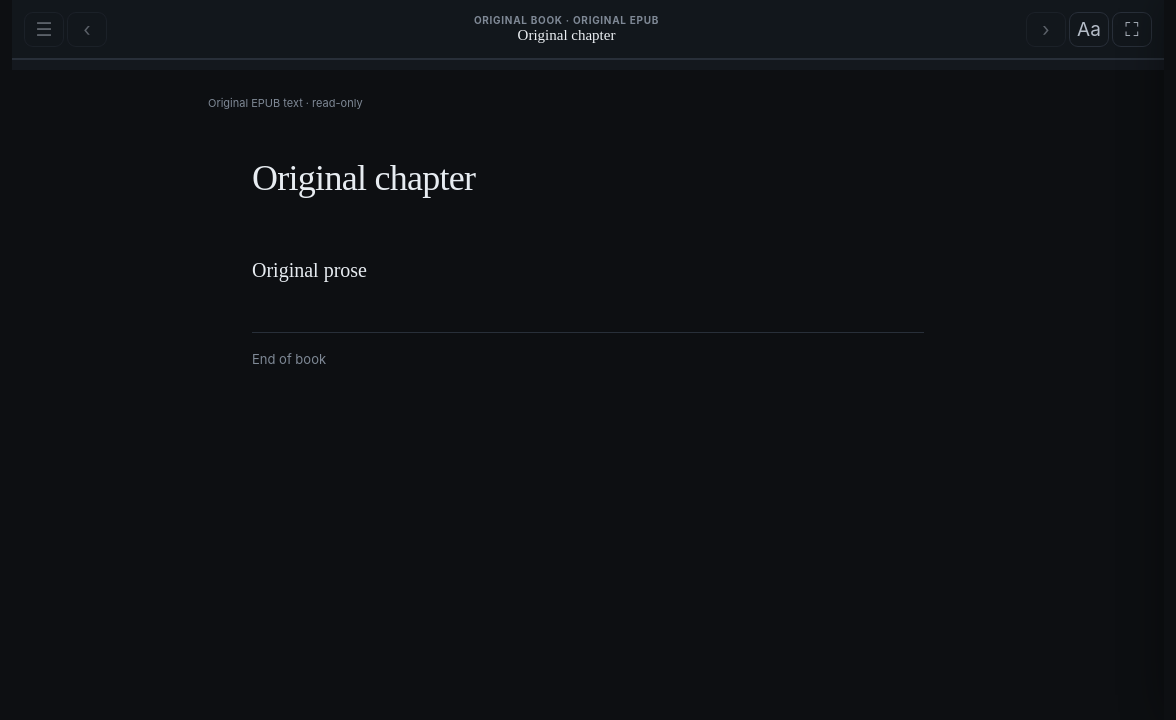
Test: reads an original EPUB without requesting workspace markers or progress
Expected: the text "Original prose" is shown, [252,259,367,281]
What coordinates should you click on to do the following:
click the button with aria-label "Reader settings"
I would click on:
 (1089, 29)
Its box is [1069,12,1109,46].
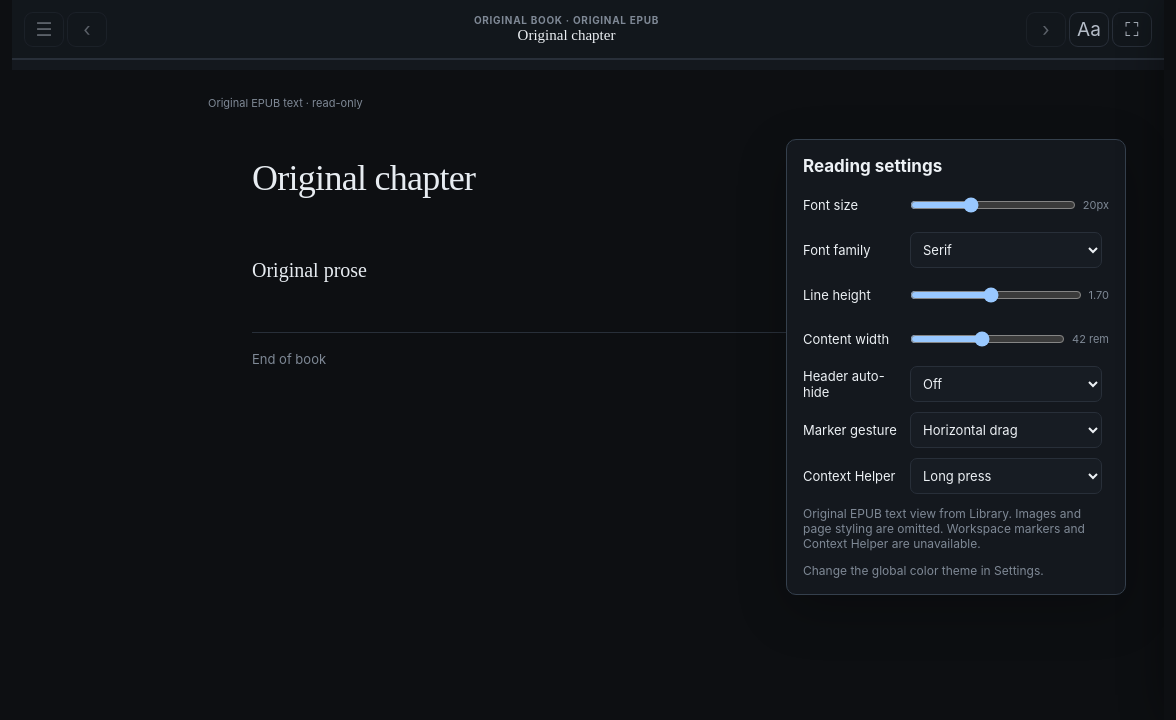
Expected: the dropdown labelled "Marker gesture" is disabled, [910,412,1102,448]
Expected: the dropdown labelled "Context Helper" is disabled, [910,458,1102,494]
Expected: the text "Original EPUB text view from Library" is shown, [803,506,1085,551]
